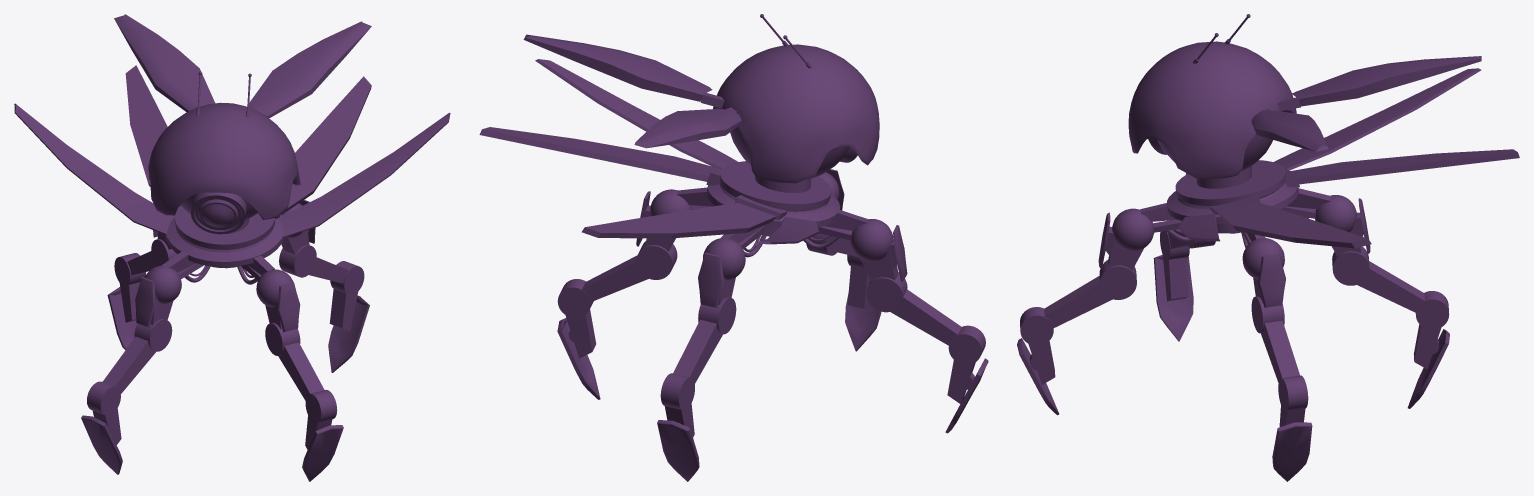
Rendered from Enemy_SpiderWalker.fbx.
3 renders of one model, left to right at view 1: azimuth 30°, elevation 25°; view 2: azimuth 150°, elevation 25°; view 3: azimuth 270°, elevation 25°, orthographic. The views are drawn at different scales.
Visible parts, largest first — view 1: SpiderWalker; view 2: SpiderWalker; view 3: SpiderWalker.
Boxes of the visible parts, x1,y1,x2,y2 form: SpiderWalker: (14,14,450,481); SpiderWalker: (479,14,988,481); SpiderWalker: (1017,14,1519,481).
Size of the model in its own units: 251 by 220 by 258.
